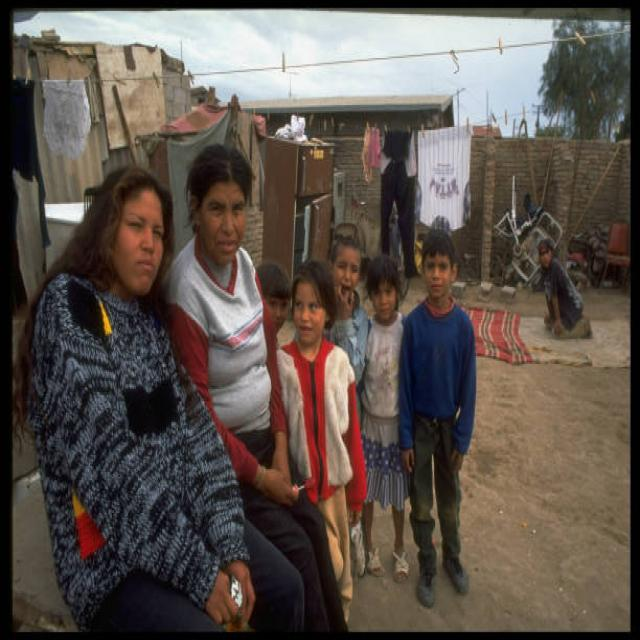civilian: (15, 165, 303, 631), (166, 144, 328, 629), (279, 262, 366, 620), (399, 227, 476, 605), (359, 256, 409, 577), (325, 223, 369, 406), (350, 521, 362, 573)
